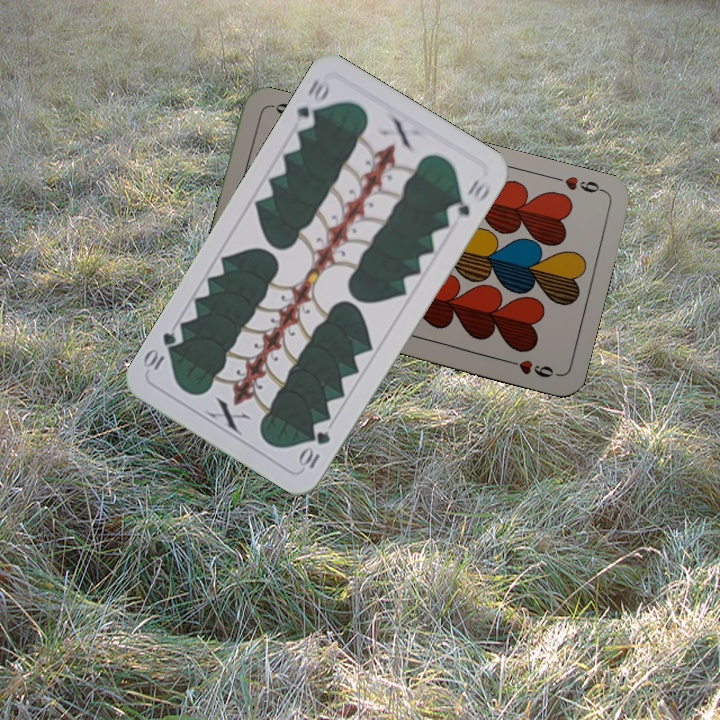G10: (290, 73, 332, 133), (295, 426, 333, 472)
H9: (548, 172, 607, 196)
